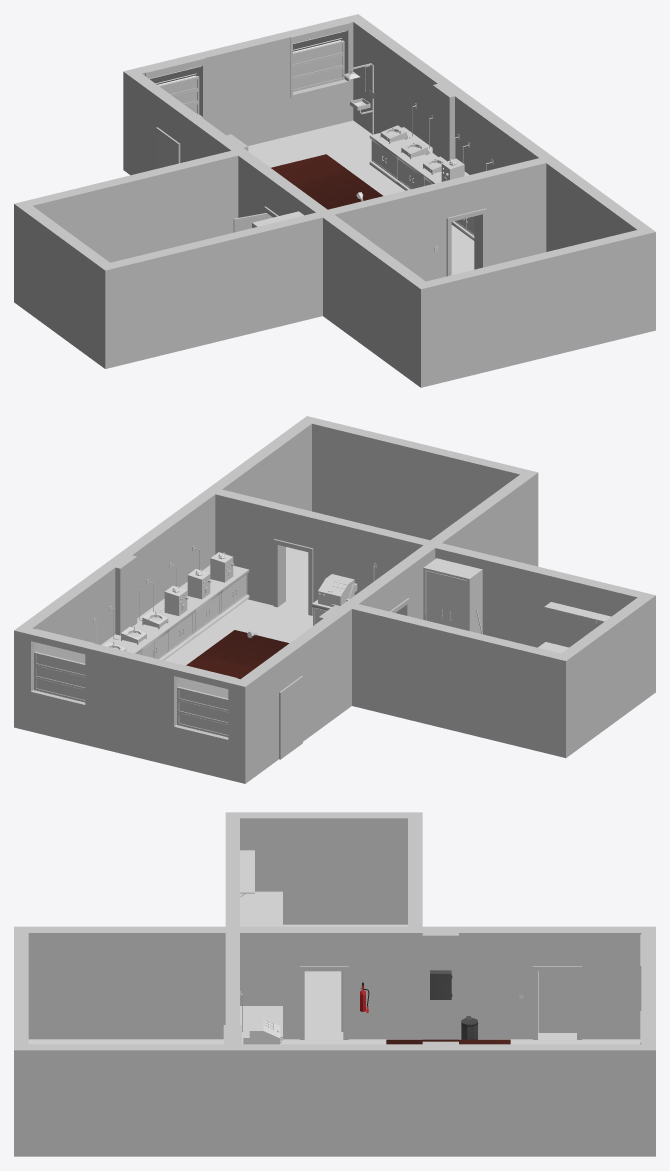
The model's file is fire-extinguisher.fbx.
The picture shows the model from 3 angles, top to bottom: view 1: azimuth 30°, elevation 25°; view 2: azimuth 150°, elevation 25°; view 3: azimuth 270°, elevation 25°; orthographic projection. The views are drawn at different scales.
Parts seen in each view (by area): view 1: wall-extend.002, wall-extend.001, wall-window, wall-door.003, wall-extend, wall.002, wall.004, wall, wall-door, floor, wall.003, wall.001 (+6 smaller); view 2: wall-window, wall-extend, wall-extend.002, wall-door.003, wall.002, wall-extend.001, wall-door, wall.001, wall, wall.004, wall.003, bench.001 (+14 smaller); view 3: wall.004, wall.001, wall.003, wall, wall-door, wall.002, wall-door.001, column.001, column, wall-extend.002, floor.002, door.001 (+12 smaller).
Part boxes in pixels (<box>): wall-extend.002: <box>414,227,655,387</box>; wall-extend.001: <box>110,212,322,366</box>; wall-window: <box>135,17,353,145</box>; wall-door.003: <box>328,158,546,281</box>; wall-extend: <box>26,150,238,262</box>; wall.002: <box>14,201,116,368</box>; wall.004: <box>323,214,425,382</box>; wall: <box>347,14,448,147</box>; wall-door: <box>123,68,225,175</box>; floor: <box>248,120,474,274</box>; wall.003: <box>546,160,648,251</box>; wall.001: <box>455,93,557,174</box>; wall-window: <box>25,628,239,780</box>; wall-extend: <box>352,604,560,755</box>; wall-extend.002: <box>300,416,538,566</box>; wall-door.003: <box>215,489,429,615</box>; wall.002: <box>554,592,655,757</box>; wall-extend.001: <box>435,543,643,647</box>; wall-door: <box>234,618,335,783</box>; wall.001: <box>121,486,221,617</box>; wall: <box>14,565,115,730</box>; wall.004: <box>431,474,531,564</box>; wall.003: <box>211,421,311,511</box>; bench.001: <box>101,565,249,660</box>; wall.004: <box>28,926,225,1039</box>; wall.001: <box>225,1044,422,1156</box>; wall.003: <box>28,1044,225,1156</box>; wall: <box>459,1044,655,1156</box>; wall-door: <box>459,926,655,1039</box>; wall.002: <box>225,812,422,924</box>; wall-door.001: <box>225,926,422,1039</box>; column.001: <box>422,1041,458,1156</box>; column: <box>422,926,458,1039</box>; wall-extend.002: <box>14,926,28,1156</box>; floor.002: <box>283,924,407,1032</box>; door.001: <box>538,971,576,1032</box>.
Bounding box in the file's own units: 1569 × 326 × 1787.
